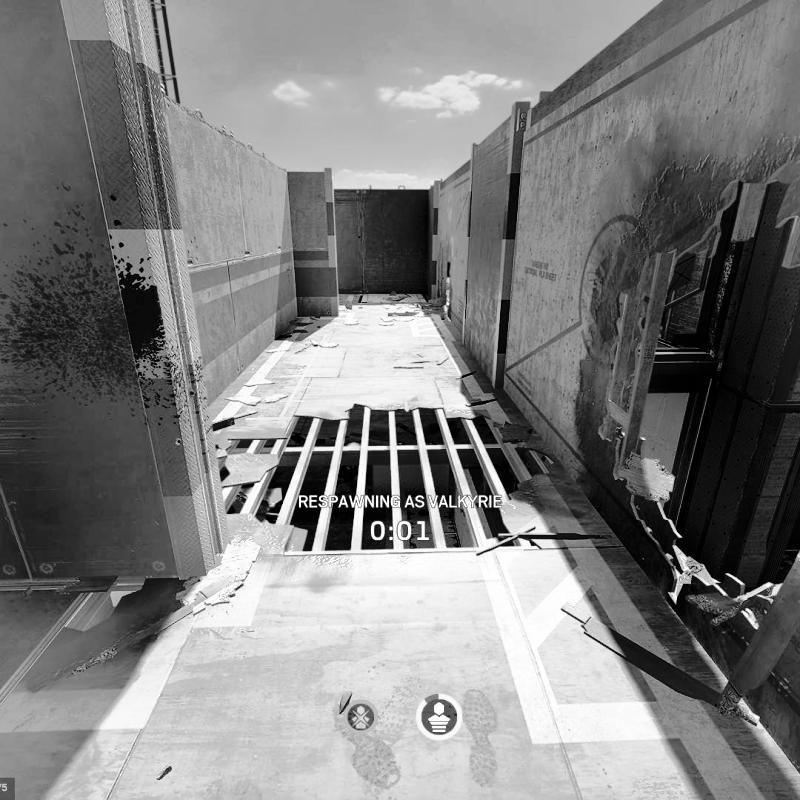Character: (332, 462, 362, 520)
